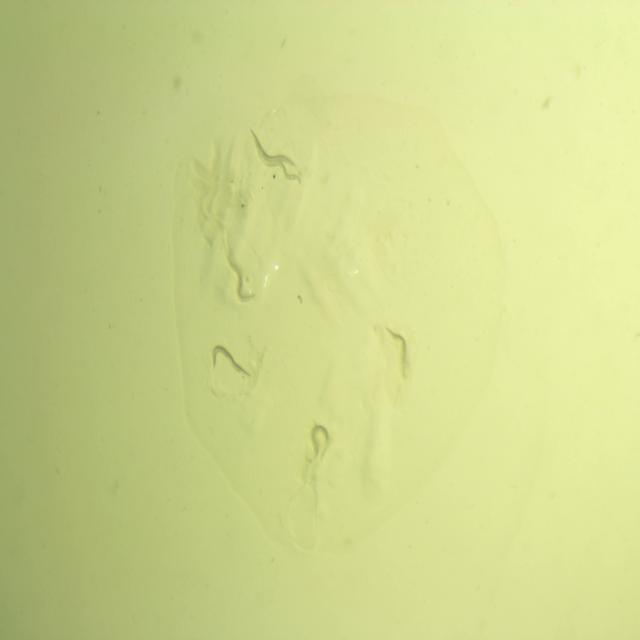worm: (247, 125, 298, 169), (255, 146, 304, 188), (210, 342, 254, 383), (226, 255, 258, 308), (383, 324, 411, 380), (309, 422, 332, 465)
